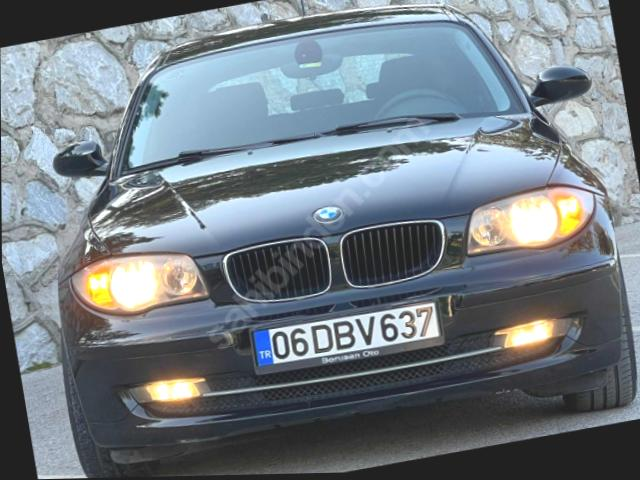plaka: (252, 301, 442, 367)
